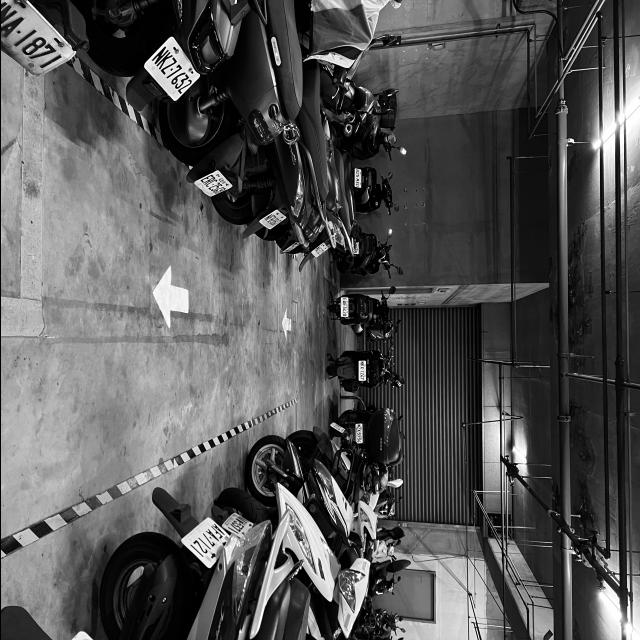-: (16, 30, 20, 36), (169, 68, 173, 73), (208, 536, 211, 539), (211, 184, 214, 186), (361, 368, 362, 371), (358, 432, 358, 432), (343, 306, 344, 306), (356, 178, 358, 178)
0: (342, 314, 346, 316)
1: (10, 27, 38, 51), (38, 54, 62, 71), (189, 542, 204, 559), (197, 537, 211, 551), (227, 526, 238, 535), (359, 371, 364, 372)
2: (176, 78, 192, 95), (192, 539, 208, 555), (206, 182, 220, 191), (359, 372, 364, 374), (342, 312, 346, 314), (354, 172, 358, 174)
3: (172, 73, 189, 90), (230, 521, 242, 531), (356, 438, 360, 440), (342, 306, 346, 308)
5: (209, 183, 222, 192), (232, 520, 244, 528), (355, 175, 358, 178), (356, 433, 360, 435)
6: (168, 72, 186, 86), (210, 186, 223, 193), (356, 440, 361, 442), (359, 375, 364, 377), (342, 309, 346, 311)
7: (26, 43, 58, 64), (164, 63, 182, 81), (201, 532, 215, 548), (229, 524, 240, 533), (359, 378, 363, 380)
8: (19, 35, 48, 58), (213, 188, 225, 194), (354, 170, 358, 172)
9: (356, 436, 360, 438)
A: (204, 528, 219, 543), (211, 523, 224, 536)
B: (342, 303, 346, 305)
C: (204, 179, 217, 188)
D: (354, 184, 358, 187)
E: (199, 174, 213, 183), (342, 298, 346, 300)
F: (210, 526, 223, 540)
K: (154, 51, 173, 70), (359, 364, 364, 366)
M: (356, 424, 360, 426), (354, 179, 358, 181)
N: (149, 46, 169, 66), (359, 362, 364, 364)
Q: (342, 300, 346, 302)
R: (201, 176, 215, 186)
X: (356, 429, 360, 432), (359, 367, 363, 369), (355, 182, 358, 184)
Z: (158, 56, 177, 75), (356, 427, 360, 429)
plate: (143, 38, 198, 102), (182, 517, 228, 568), (196, 171, 230, 198), (339, 296, 348, 318), (354, 424, 362, 444), (354, 169, 361, 187), (358, 361, 364, 381)
